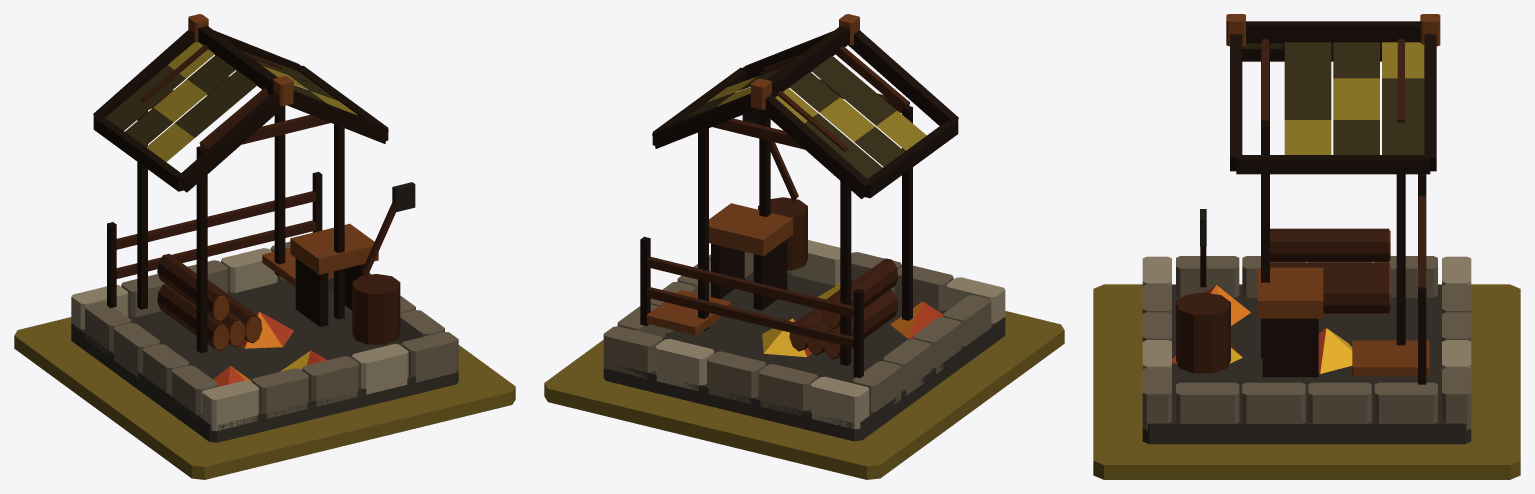
File: lumber_t1.glb
The picture shows the model from 3 angles, left to right: view 1: azimuth 30°, elevation 25°; view 2: azimuth 150°, elevation 25°; view 3: azimuth 270°, elevation 25°; orthographic projection. The views are drawn at different scales.
Parts seen in each view (by area): view 1: MMR | lumber | T01 Architecture.001, MMR | lumber | Tier 01 Ground.001, MMR | lumber | T01 Autumn Dressing.001; view 2: MMR | lumber | T01 Architecture.001, MMR | lumber | Tier 01 Ground.001, MMR | lumber | T01 Autumn Dressing.001; view 3: MMR | lumber | T01 Architecture.001, MMR | lumber | Tier 01 Ground.001, MMR | lumber | T01 Autumn Dressing.001.
Part boxes in pixels (x1,y1,x2,y2): MMR | lumber | T01 Architecture.001: (71,14,458,442); MMR | lumber | Tier 01 Ground.001: (14,317,515,479); MMR | lumber | T01 Autumn Dressing.001: (213,312,327,386); MMR | lumber | T01 Architecture.001: (603,14,1005,441); MMR | lumber | Tier 01 Ground.001: (544,311,1064,479); MMR | lumber | T01 Autumn Dressing.001: (762,284,943,357); MMR | lumber | T01 Architecture.001: (1142,14,1471,444); MMR | lumber | Tier 01 Ground.001: (1093,284,1520,479); MMR | lumber | T01 Autumn Dressing.001: (1172,285,1352,373).
Bounding box in the file's own units: 1.3 × 1.22 × 1.3.
1 material, 1 textured.
